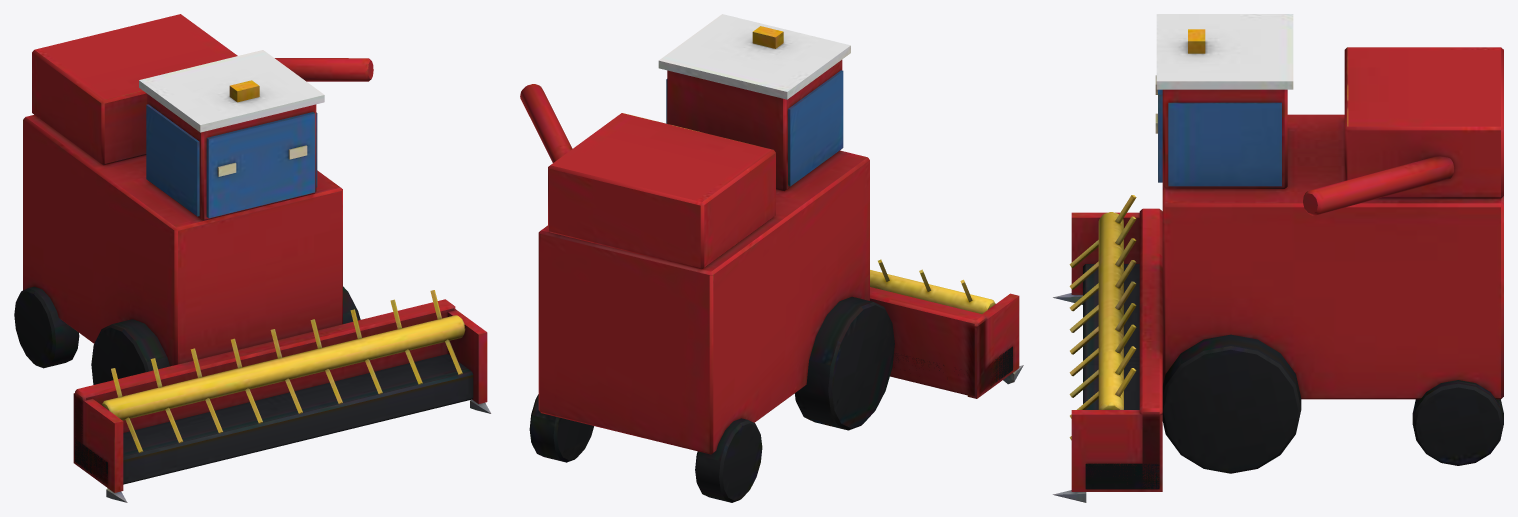
File: cosechadora.glb
3 renders of one model, left to right at view 1: azimuth 30°, elevation 25°; view 2: azimuth 150°, elevation 25°; view 3: azimuth 270°, elevation 25°, orthographic. The views are drawn at different scales.
Visible parts, largest first — view 1: cosechadora; view 2: cosechadora; view 3: cosechadora.
Boxes of the visible parts, x1=… form: cosechadora: x1=14, y1=14, x2=491, y2=502; cosechadora: x1=520, y1=14, x2=1023, y2=502; cosechadora: x1=1053, y1=14, x2=1503, y2=502.
Size of the model in its own units: 4.24 by 3.7 by 3.97.
Materials: 1 (1 with a texture image).
